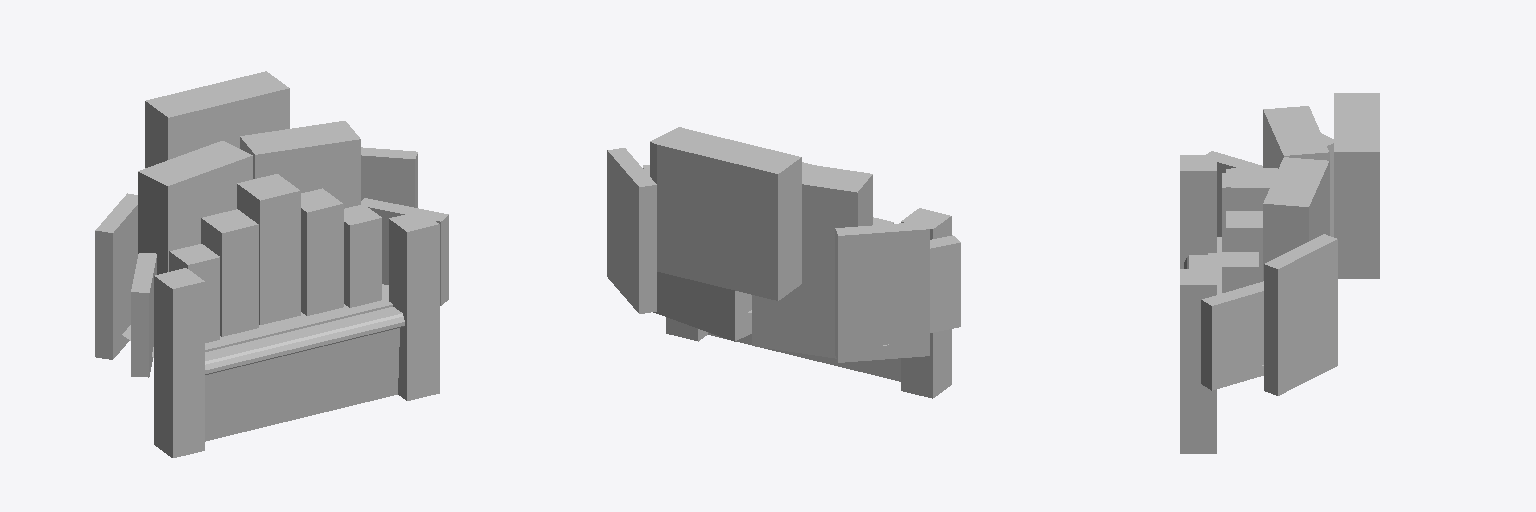
Rendered from testlevel.obj.
3 views of the same model, side by side, from view 1: azimuth 30°, elevation 25°; view 2: azimuth 150°, elevation 25°; view 3: azimuth 270°, elevation 25° (orthographic).
Visible parts, largest first — view 1: Test_level_Cube.016; view 2: Test_level_Cube.016; view 3: Test_level_Cube.016.
Boxes of the visible parts, x1,y1,x2,y2 form: Test_level_Cube.016: [95, 71, 448, 457]; Test_level_Cube.016: [607, 127, 960, 398]; Test_level_Cube.016: [1180, 93, 1379, 453].
Size of the model in its own units: 79.89 by 63 by 43.